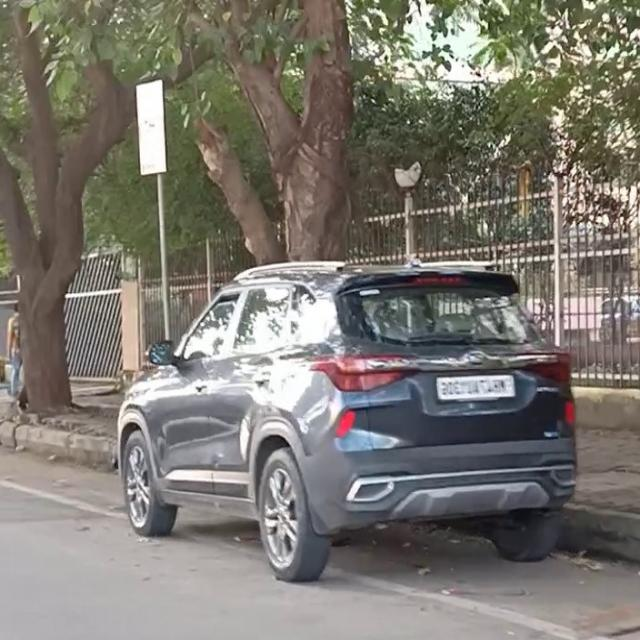license_plate: (432, 370, 518, 406)
